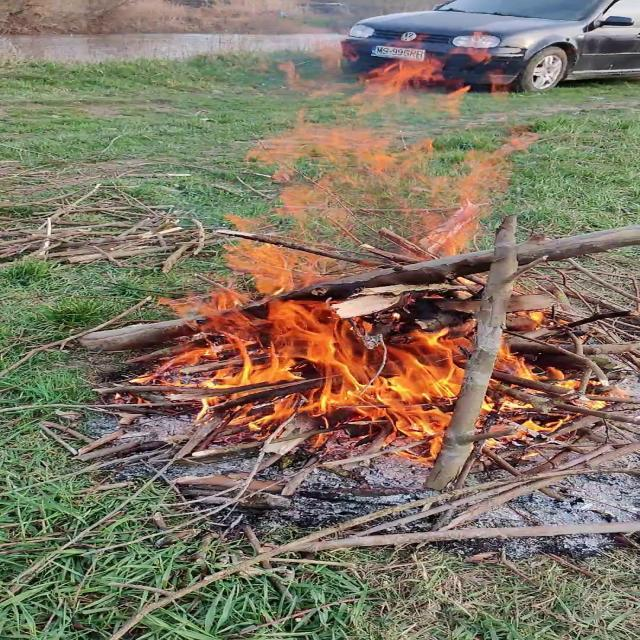Fire: (130, 61, 640, 431)
